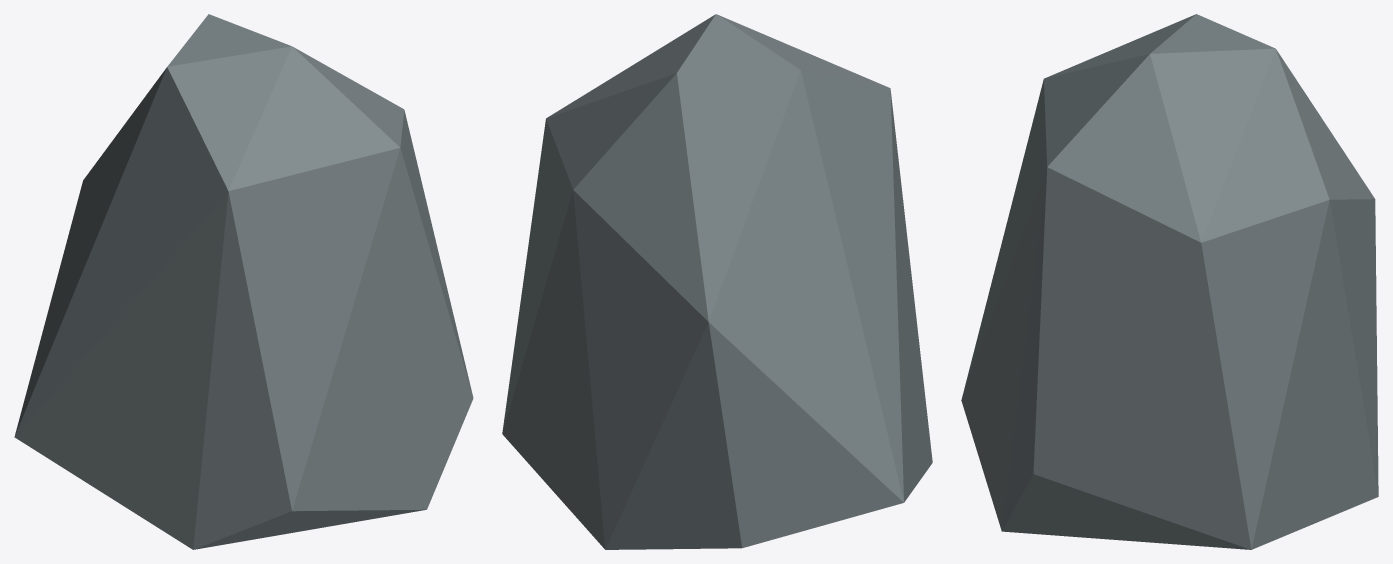
The model's file is Rock_05.fbx.
3 views of the same model, side by side, from view 1: azimuth 30°, elevation 25°; view 2: azimuth 150°, elevation 25°; view 3: azimuth 270°, elevation 25° (orthographic). The views are drawn at different scales.
Parts seen in each view (by area): view 1: Rock_05; view 2: Rock_05; view 3: Rock_05.
Boxes of the visible parts, x1=… form: Rock_05: x1=14, y1=14, x2=473, y2=549; Rock_05: x1=502, y1=14, x2=932, y2=549; Rock_05: x1=961, y1=14, x2=1378, y2=549.
Size of the model in its own units: 79.42 by 84.88 by 72.
